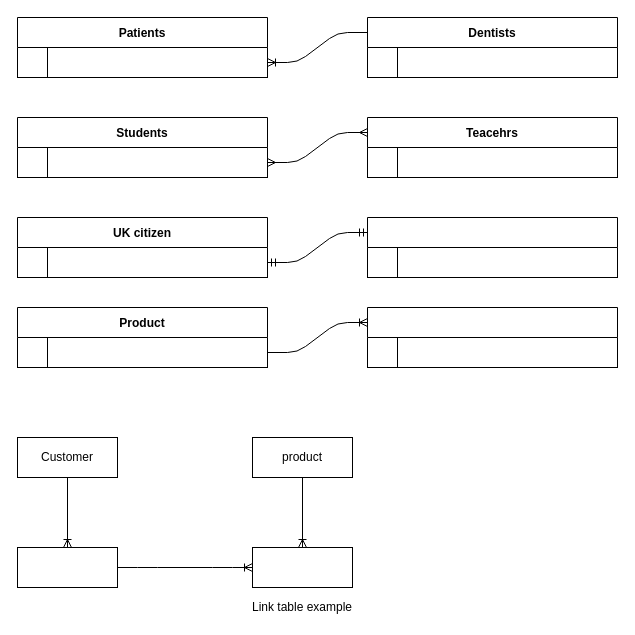
Image size: 635x635. Some labels were removed from this diagram. Each missing label, with the centre of its shape:
"Component" goes at point (492, 337).
"Order" goes at point (67, 567).
"order line" goes at point (302, 567).
"UK Passport" goes at point (492, 247).
